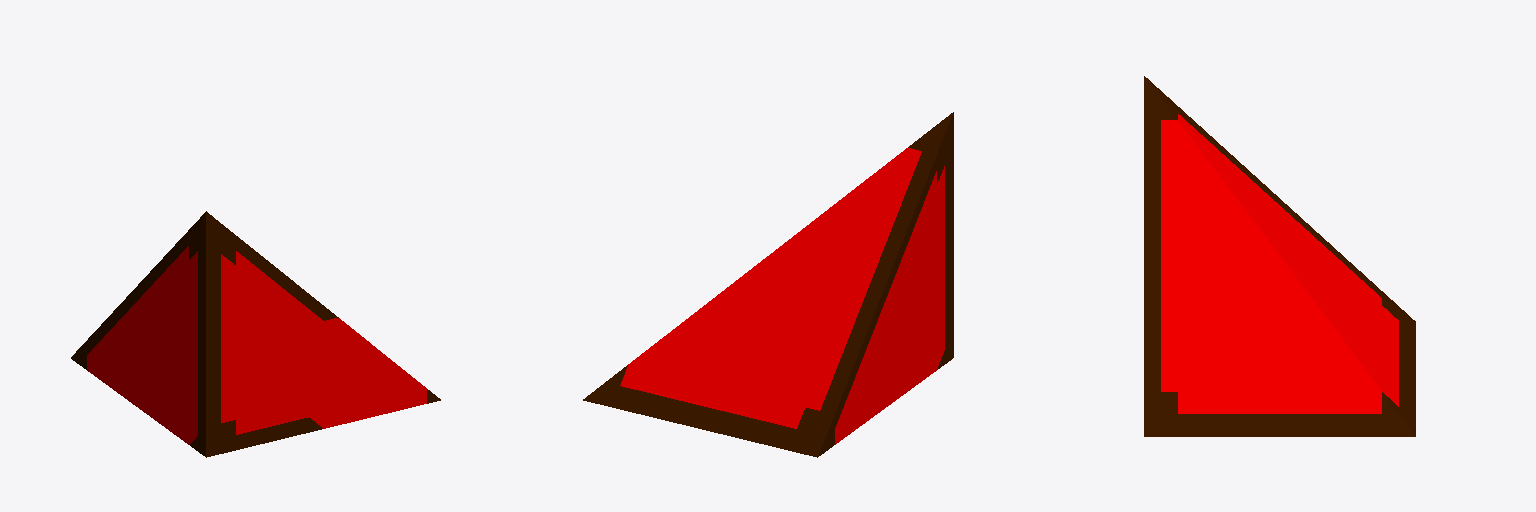
3 views of the same model, side by side, from view 1: azimuth 30°, elevation 25°; view 2: azimuth 150°, elevation 25°; view 3: azimuth 270°, elevation 25° (orthographic).
Visible parts, largest first — view 1: 5_red; view 2: 5_red; view 3: 5_red.
Boxes of the visible parts, x1=… form: 5_red: x1=71, y1=211, x2=440, y2=457; 5_red: x1=583, y1=112, x2=953, y2=457; 5_red: x1=1144, y1=76, x2=1415, y2=436.
Size of the model in its own units: 1 by 1 by 1.
1 materials, 1 textured.